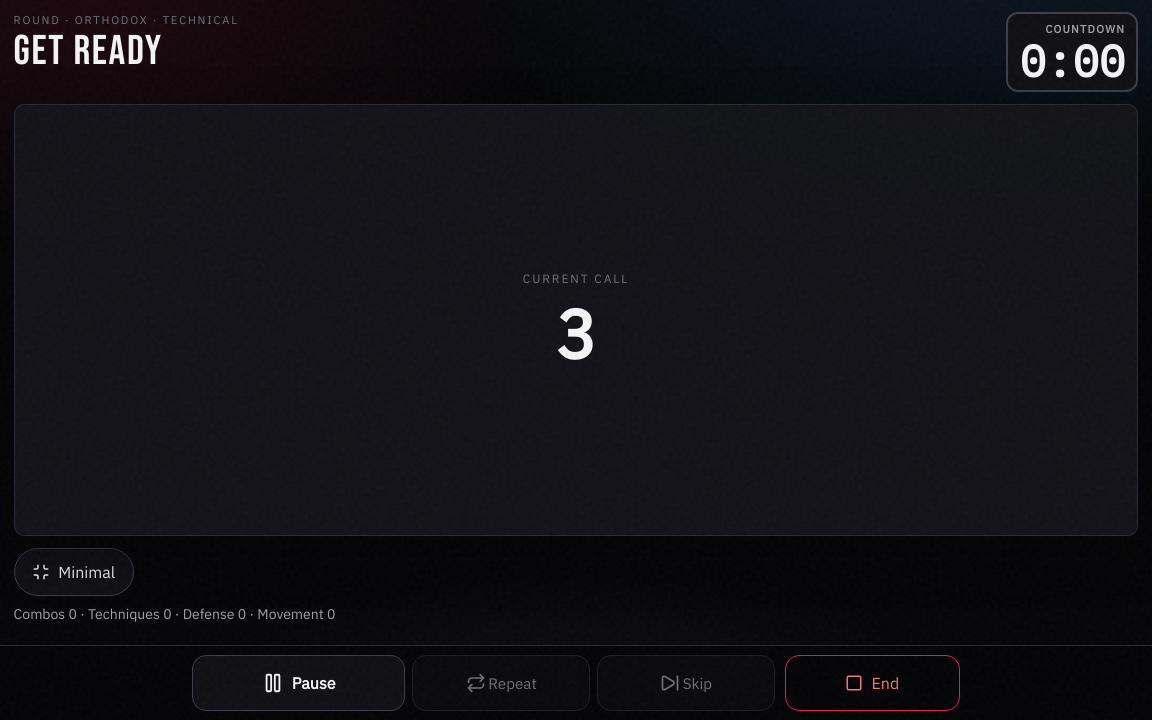
Test: v1.2.0 visual polish › Session controls preserve labels and disabled behavior via appRoutes
The width and height of the screenshot is (1152, 720).
Expected: the button labelled "Pause" is shown, [192,655,405,711]
Expected: the button with aria-label "repeat combination" is shown, [412,655,590,711]
Click the button with aria-label "end session" at (872, 683), box [785,655,960,711]
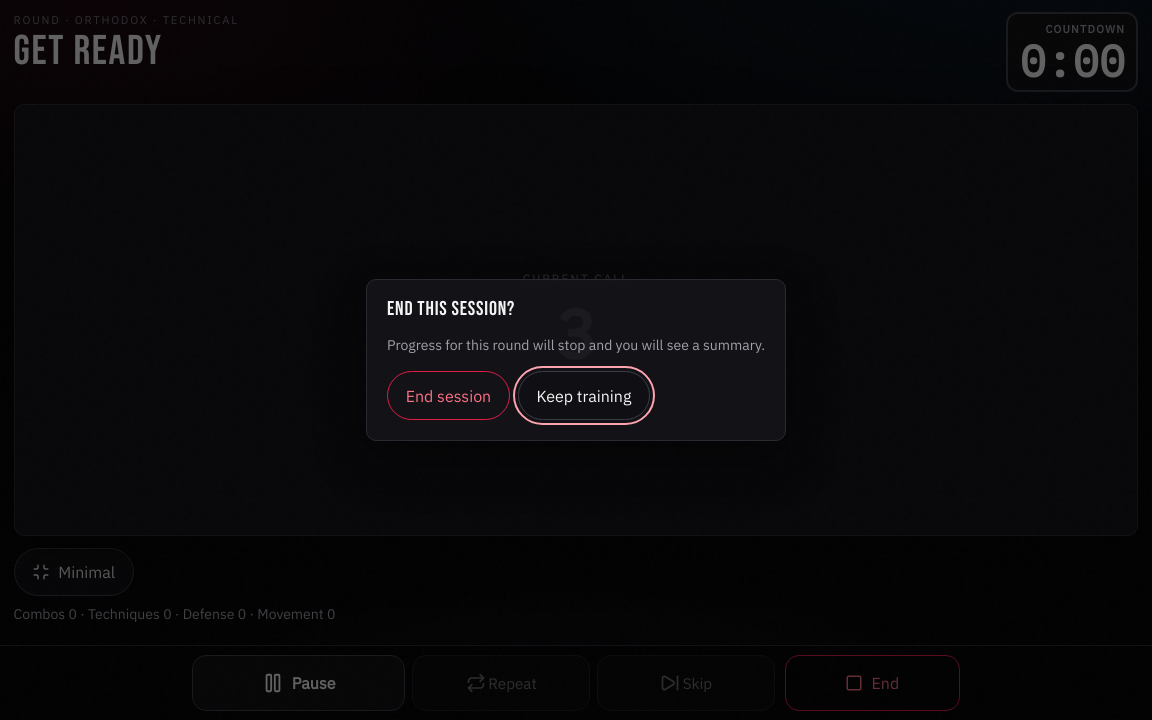
Now the dialog is shown
